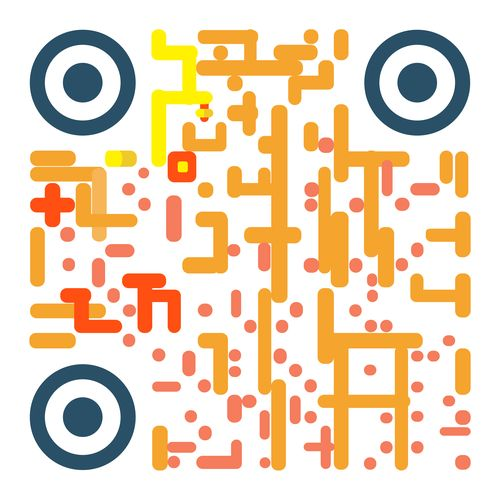QRCode: (12, 12, 486, 486)
